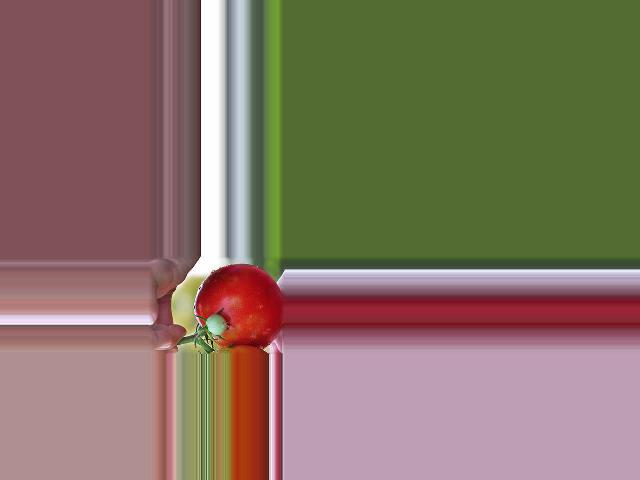tomato: (193, 264, 284, 348)
